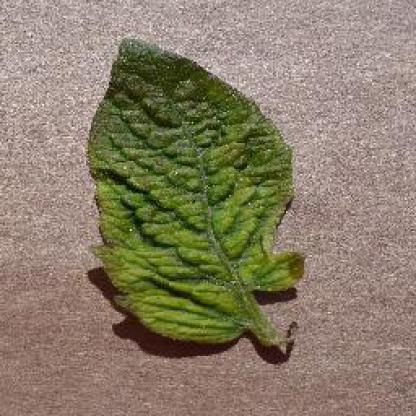bad leaf: (83, 30, 328, 398)
